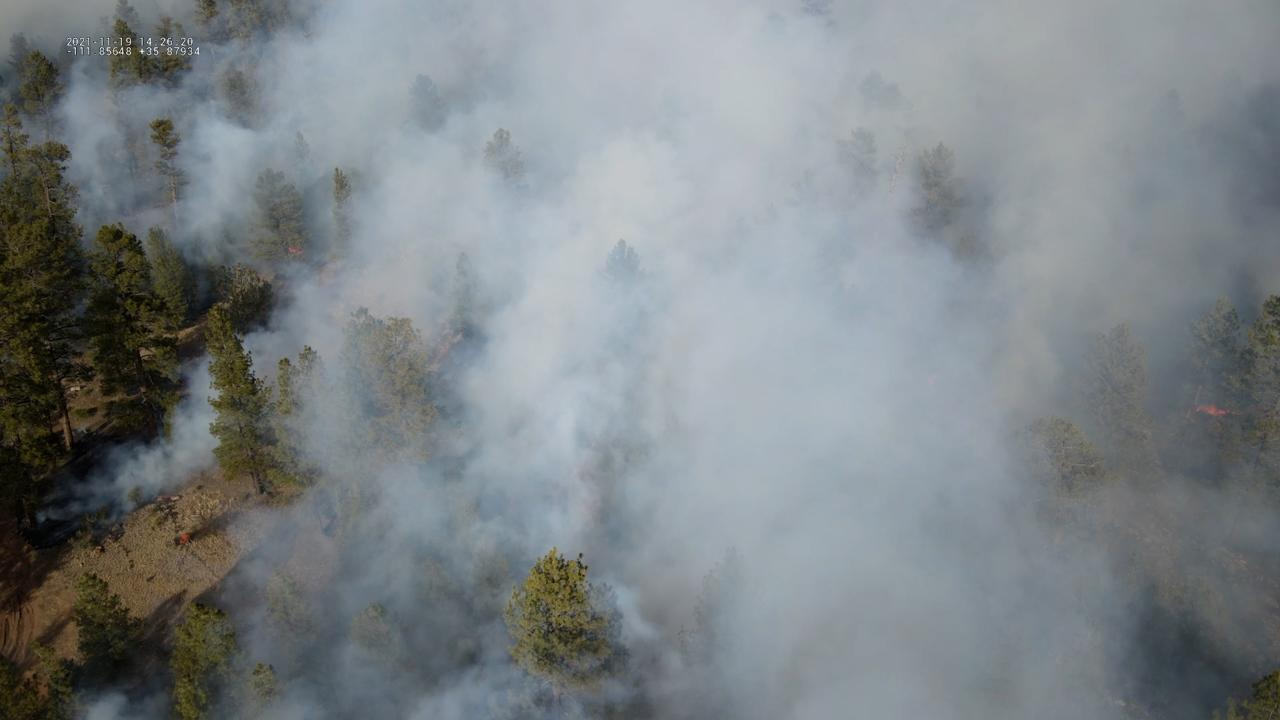fire: (1195, 403, 1229, 419), (287, 246, 305, 256), (178, 532, 191, 545)
smoke: (0, 0, 1280, 720)
